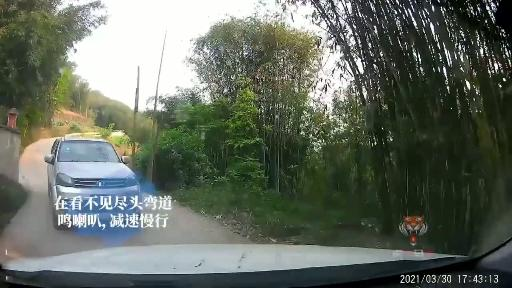CAR: (7, 106, 239, 242)
